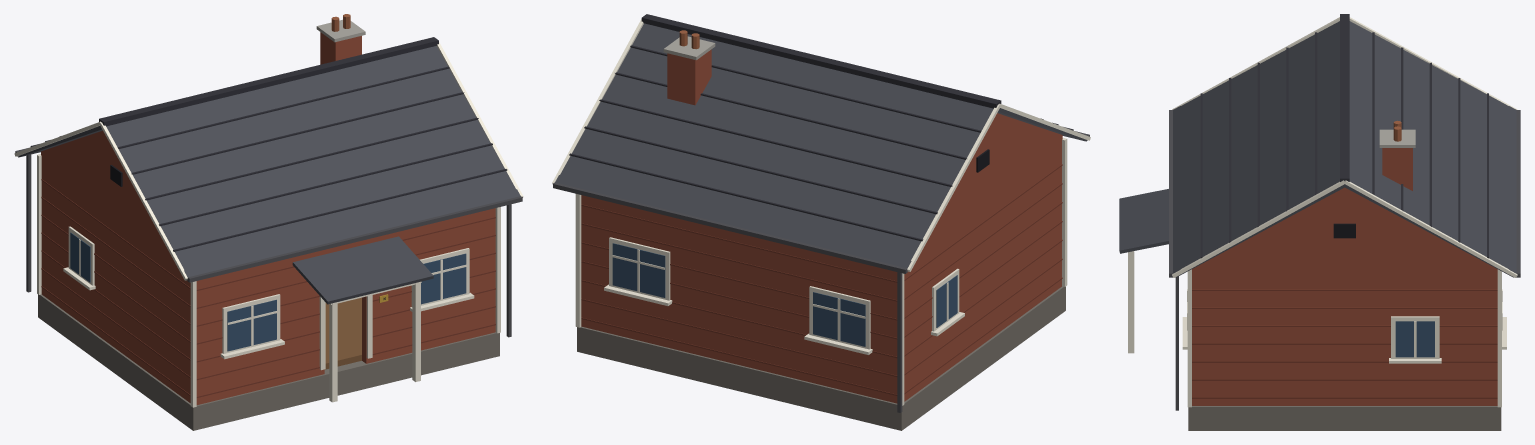
Rendered from house.f.glb.
3 views of the same model, side by side, from view 1: azimuth 30°, elevation 25°; view 2: azimuth 150°, elevation 25°; view 3: azimuth 270°, elevation 25° (orthographic). The views are drawn at different scales.
Visible parts, largest first — view 1: roof-front, wall-left, wall-front-1, foundation, wall-front1, porch-roof, gable-1, ridge, gutter1, floor, wf-2.5-glass, wf2.5-glass (+22 smaller); view 2: roof-back, wall-back, wall-left, foundation, gable-1, ridge, gutter-1, wb2.5-glass, wb-2.5-glass, chimney, tiles-b1, tiles-b2 (+18 smaller); view 3: wall-right, roof-front, roof-back, gable1, foundation, porch-roof, ridge, ws1-glass, chimney, wall-front1, wall-back, barge1-1 (+26 smaller).
Part boxes in pixels (bbox=[...]): roof-front: bbox=[106, 46, 520, 277]; wall-left: bbox=[45, 158, 189, 402]; wall-front-1: bbox=[189, 250, 324, 404]; foundation: bbox=[38, 294, 499, 430]; wall-front1: bbox=[362, 208, 495, 363]; porch-roof: bbox=[292, 236, 433, 304]; gable-1: bbox=[41, 130, 165, 246]; ridge: bbox=[99, 37, 438, 126]; gutter1: bbox=[187, 196, 522, 282]; floor: bbox=[325, 297, 361, 369]; wf-2.5-glass: bbox=[227, 299, 276, 351]; wf2.5-glass: bbox=[421, 253, 466, 304]; roof-back: bbox=[555, 23, 993, 268]; wall-back: bbox=[581, 195, 905, 403]; wall-left: bbox=[905, 143, 1057, 400]; foundation: bbox=[577, 286, 1065, 430]; gable-1: bbox=[930, 113, 1062, 235]; ridge: bbox=[641, 14, 1001, 108]; gutter-1: bbox=[553, 182, 907, 273]; wb2.5-glass: bbox=[612, 243, 665, 297]; wb-2.5-glass: bbox=[813, 292, 865, 346]; chimney: bbox=[667, 49, 711, 105]; tiles-b1: bbox=[569, 153, 923, 241]; tiles-b2: bbox=[584, 126, 937, 214]; wall-right: bbox=[1199, 266, 1490, 405]; roof-front: bbox=[1173, 21, 1346, 277]; roof-back: bbox=[1343, 21, 1516, 277]; gable1: bbox=[1198, 187, 1491, 266]; foundation: bbox=[1188, 406, 1501, 430]; porch-roof: bbox=[1119, 189, 1168, 253]; ridge: bbox=[1340, 14, 1349, 181]; ws1-glass: bbox=[1395, 321, 1434, 357]; chimney: bbox=[1382, 148, 1412, 190]; wall-front1: bbox=[1192, 266, 1199, 405]; wall-back: bbox=[1490, 266, 1497, 405]; barge1-1: bbox=[1344, 180, 1517, 277].
Bounding box in the file's own units: 8.92 × 6.98 × 9.11.
